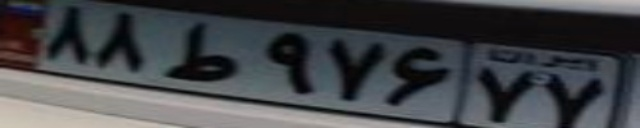6: (387, 43, 450, 106)
7: (323, 38, 384, 101), (539, 71, 604, 127), (473, 64, 529, 124)
8: (95, 10, 145, 69), (47, 4, 86, 64)
9: (261, 33, 313, 95)
taa: (164, 22, 238, 84)
